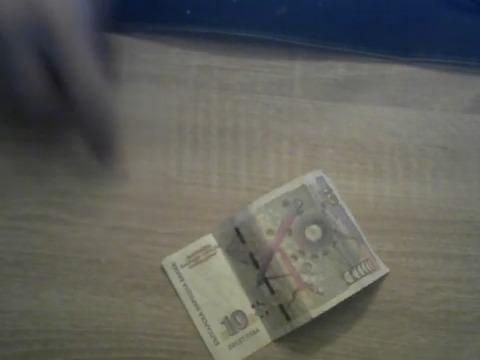10leva: (160, 170, 390, 360)
